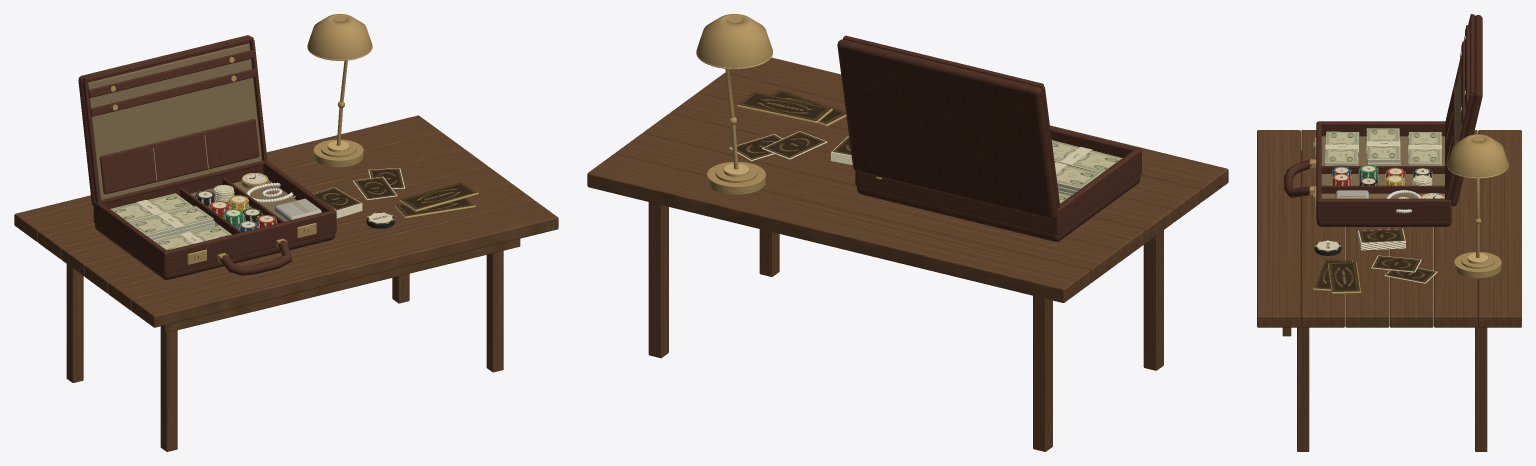
Rendered from stash.glb.
The picture shows the model from 3 angles, left to right: view 1: azimuth 30°, elevation 25°; view 2: azimuth 150°, elevation 25°; view 3: azimuth 270°, elevation 25°; orthographic projection. The views are drawn at different scales.
Visible parts, largest first — view 1: Desk, CaseLidMesh, CaseBody, Cards, Lamp, Cash, Chips, Valuables; view 2: Desk, CaseLidMesh, CaseBody, Lamp, Cards, Cash; view 3: Desk, CaseBody, CaseLidMesh, Cards, Cash, Lamp, Chips, Valuables.
Part boxes in pixels (x1,y1,x2,y2): Desk: (14, 115, 558, 451); CaseLidMesh: (78, 35, 267, 205); CaseBody: (93, 161, 336, 279); Cards: (313, 168, 478, 228); Lamp: (307, 14, 372, 167); Cash: (110, 193, 231, 250); Chips: (195, 185, 277, 231); Valuables: (241, 173, 321, 220); Desk: (587, 57, 1228, 451); CaseLidMesh: (837, 35, 1060, 219); CaseBody: (855, 127, 1141, 241); Lamp: (696, 14, 773, 194); Cards: (729, 89, 852, 164); Cash: (1051, 140, 1122, 203); Desk: (1257, 130, 1521, 451); CaseBody: (1284, 121, 1451, 226); CaseLidMesh: (1445, 14, 1482, 206); Cards: (1312, 228, 1437, 294); Cash: (1325, 128, 1441, 165); Lamp: (1447, 134, 1508, 278); Chips: (1331, 165, 1432, 185); Valuables: (1335, 190, 1444, 213).
Bounding box in the file's own units: 2.13 × 1.53 × 1.28.
19 materials, 5 textured.
